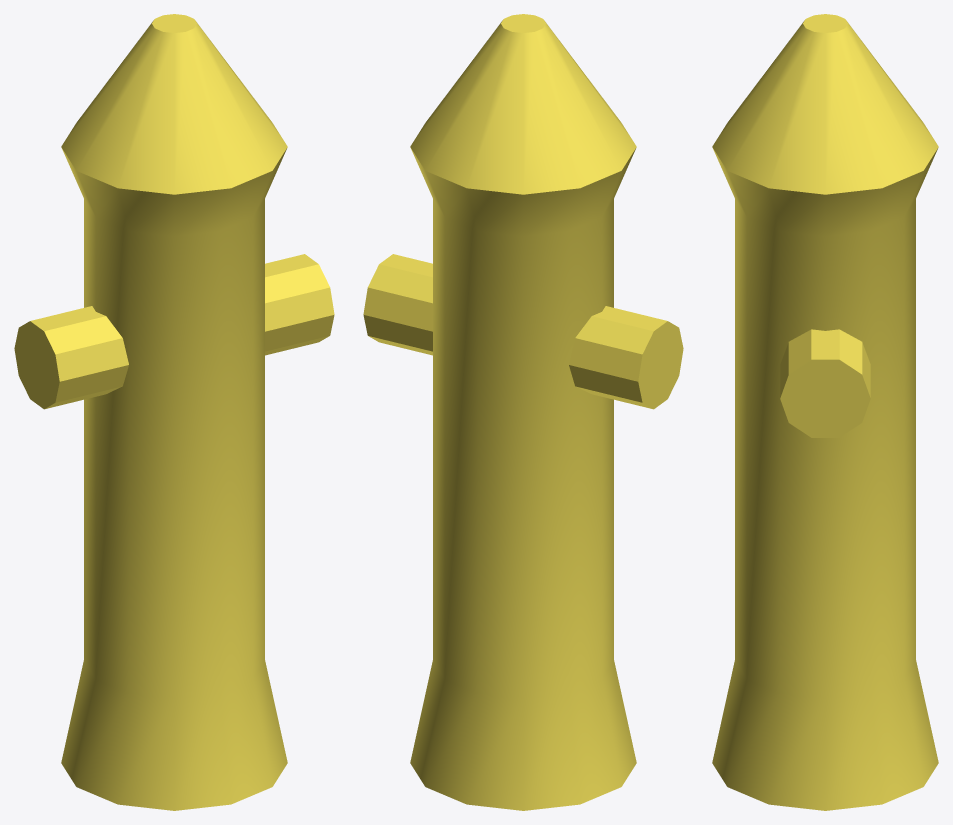
File: street.utility.hydrant.glb
3 renders of one model, left to right at view 1: azimuth 30°, elevation 25°; view 2: azimuth 150°, elevation 25°; view 3: azimuth 270°, elevation 25°, orthographic.
Parts seen in each view (by area): view 1: main__plastic_yellow; view 2: main__plastic_yellow; view 3: main__plastic_yellow.
Part boxes in pixels (x1,y1,x2,y2): main__plastic_yellow: [14, 14, 334, 810]; main__plastic_yellow: [363, 14, 683, 810]; main__plastic_yellow: [712, 14, 938, 810].
Bounding box in the file's own units: 0.28 × 0.72 × 0.2.
